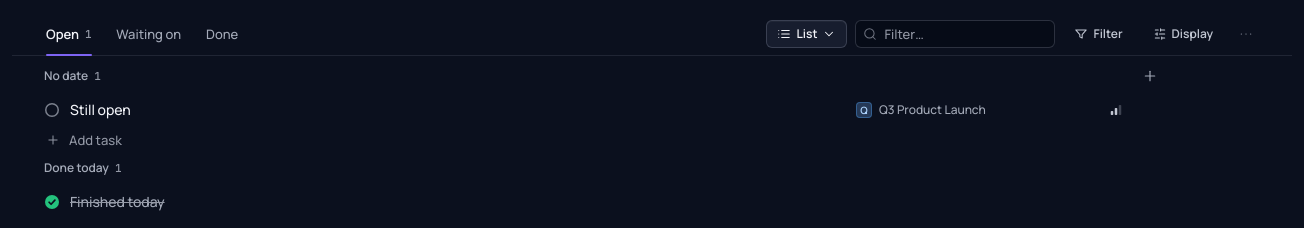
Scenario: My tasks tabs › Done is grouped by the day each task was finished
The width and height of the screenshot is (1304, 228).
Click the tab "Done" at (222, 34), box [204,12,240,56]
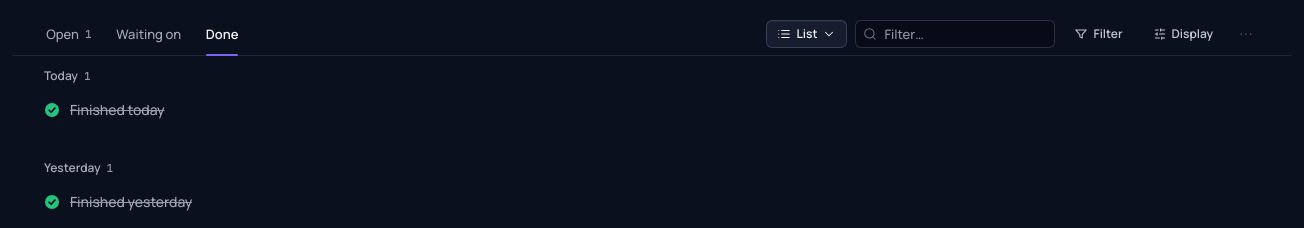
Result: the heading "Today 1" is shown at [44,62,115,90]
Result: the heading "Yesterday 1" is shown at [44,154,137,182]
Result: the button "Still open" is gone
